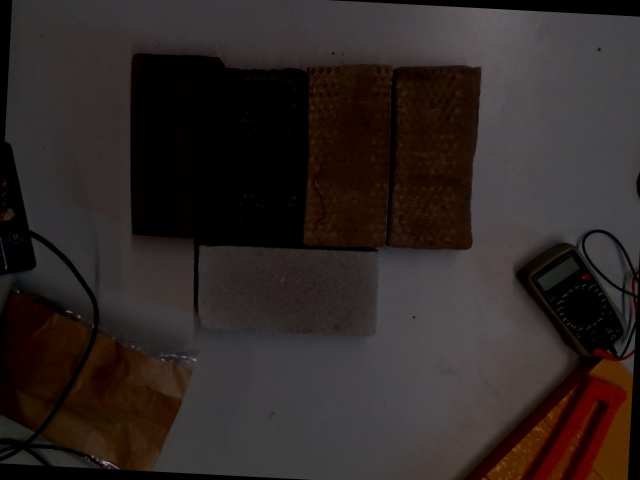brick: (130, 57, 219, 235), (394, 66, 476, 245), (200, 249, 376, 332), (307, 68, 389, 243), (219, 71, 301, 242)
